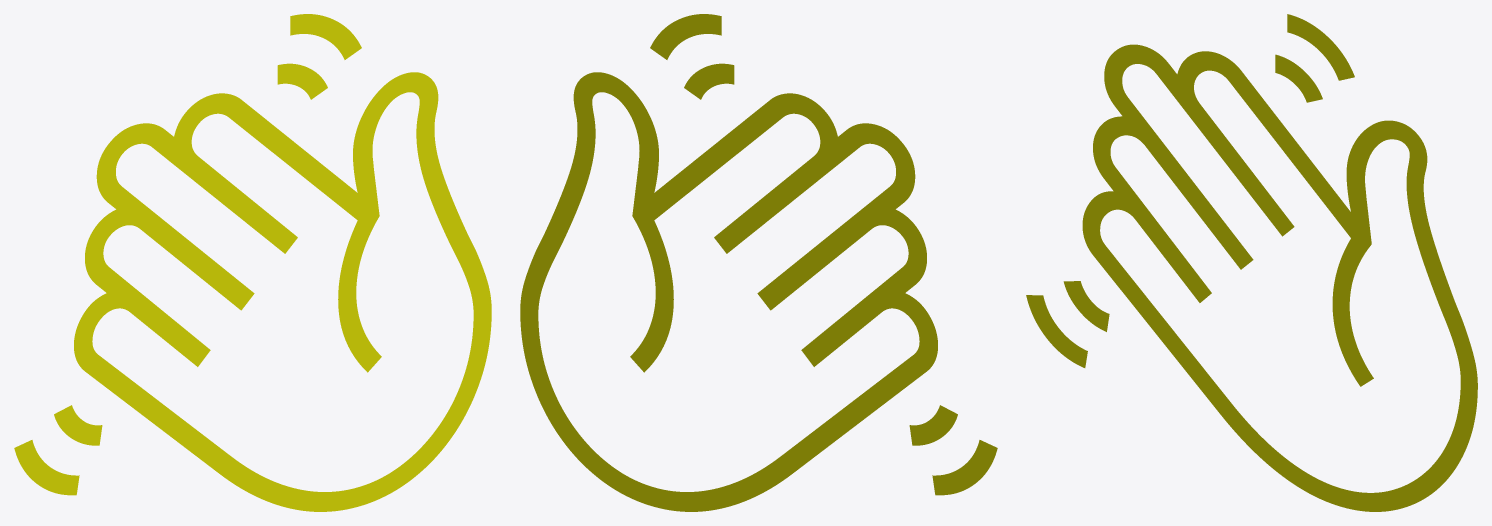
The model's file is wave.gltf.
3 views of the same model, side by side, from view 1: azimuth 30°, elevation 25°; view 2: azimuth 150°, elevation 25°; view 3: azimuth 330°, elevation 25° (orthographic). The views are drawn at different scales.
Parts seen in each view (by area): view 1: Text.669_669; view 2: Text.669_669; view 3: Text.669_669.
Part boxes in pixels (x1,y1,x2,y2): Text.669_669: (14,14,491,511); Text.669_669: (520,14,997,511); Text.669_669: (1026,14,1477,511).
Bounding box in the file's own units: 1 × 1.02 × 3.6e-06.
